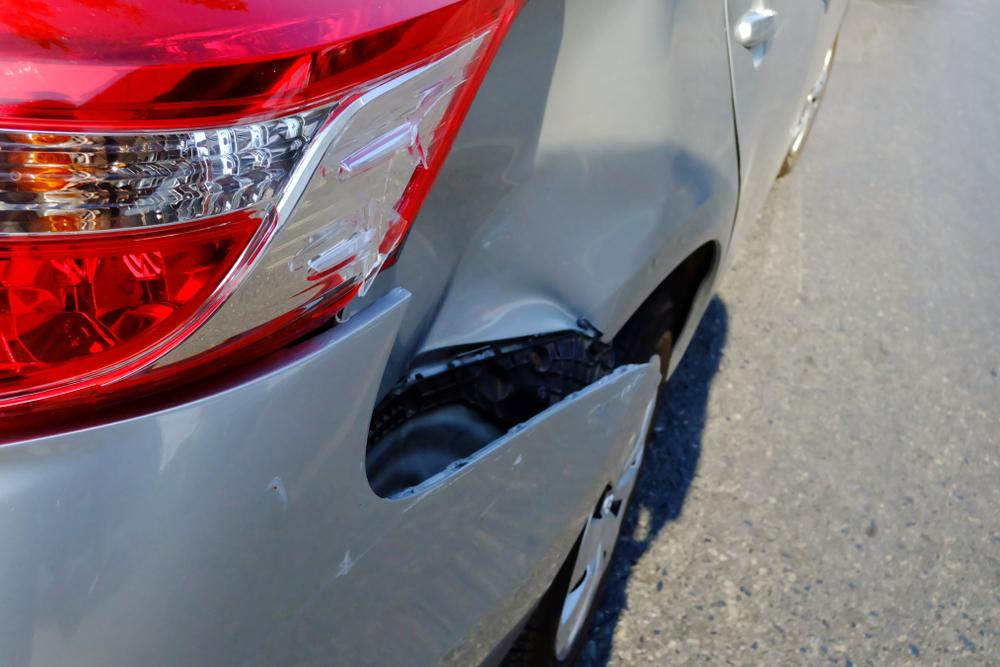dent: (410, 142, 717, 336)
lamp broken: (0, 0, 524, 429)
